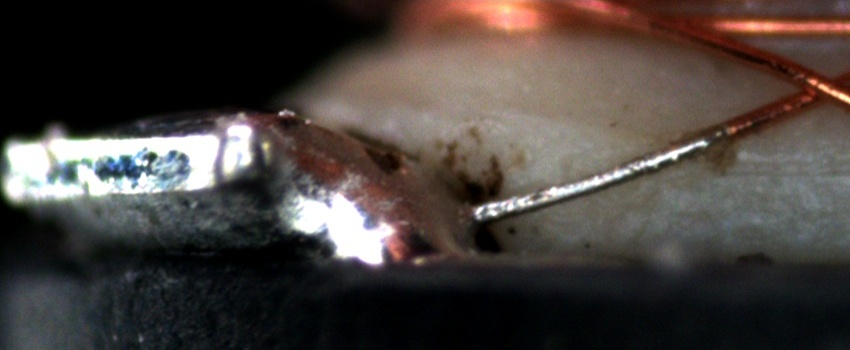CL: (772, 59, 846, 115)
DL: (698, 137, 850, 198)
TS: (472, 128, 723, 221)
